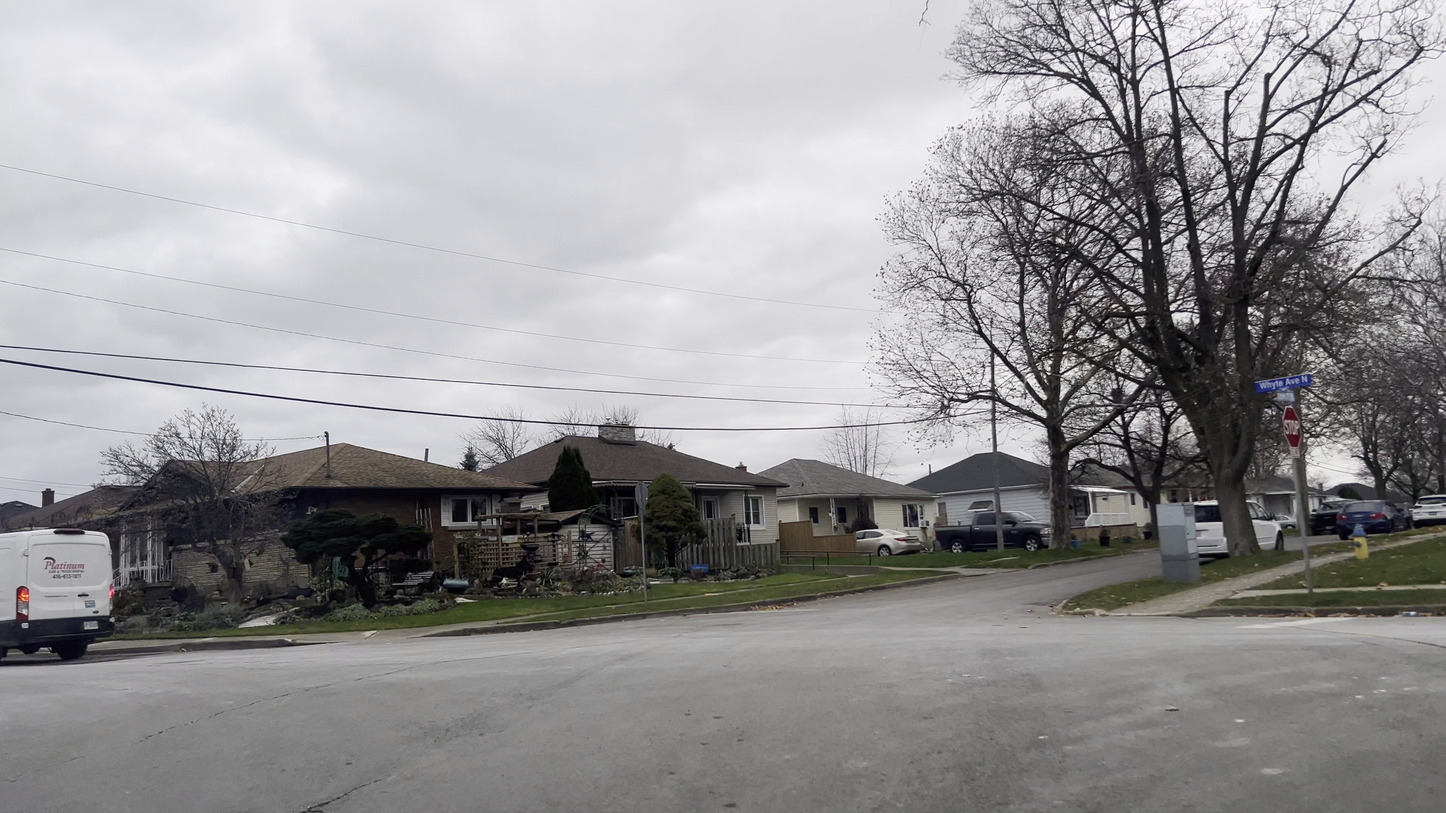cracks: (291, 763, 407, 813)
